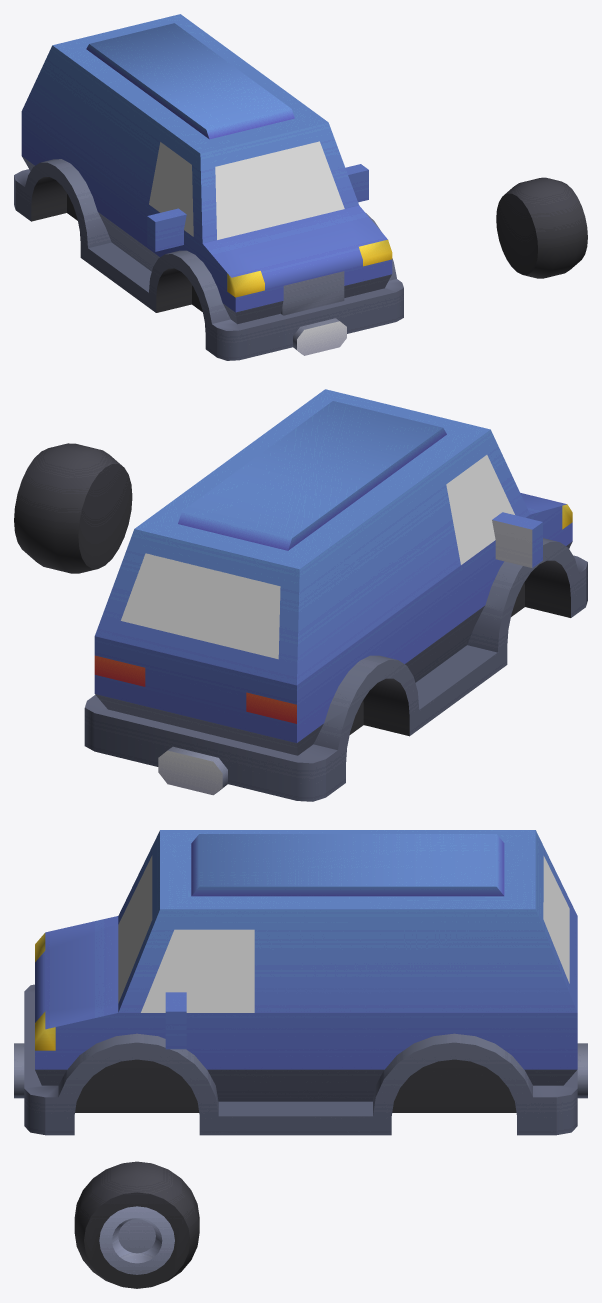
Rendered from vanbodyAndWheel.glb.
3 views of the same model, one above another, from view 1: azimuth 30°, elevation 25°; view 2: azimuth 150°, elevation 25°; view 3: azimuth 270°, elevation 25° (orthographic). The views are drawn at different scales.
Parts seen in each view (by area): view 1: body, bodyFrontWindow, wheel-front-left, body.001; view 2: body, wheel-front-left, bodyRearWindow, body.001; view 3: body, wheel-front-left, bodyLeftWindow, bodyFrontWindow, bodyRearWindow.
Boxes of the visible parts, <box> form: body: <box>14,14,403,360</box>; bodyFrontWindow: <box>215,141,344,239</box>; wheel-front-left: <box>496,177,587,278</box>; body.001: <box>149,142,193,236</box>; body: <box>84,389,587,801</box>; wheel-front-left: <box>14,443,132,573</box>; bodyRearWindow: <box>121,553,280,659</box>; body.001: <box>446,455,514,564</box>; body: <box>14,830,587,1135</box>; wheel-front-left: <box>74,1161,199,1288</box>; bodyLeftWindow: <box>141,929,254,1012</box>; bodyFrontWindow: <box>118,855,152,1003</box>; bodyRearWindow: <box>543,856,569,983</box>.
Bounding box in the file's own units: 2.81 × 1.35 × 2.75.
Materials: 2 (1 with a texture image).
